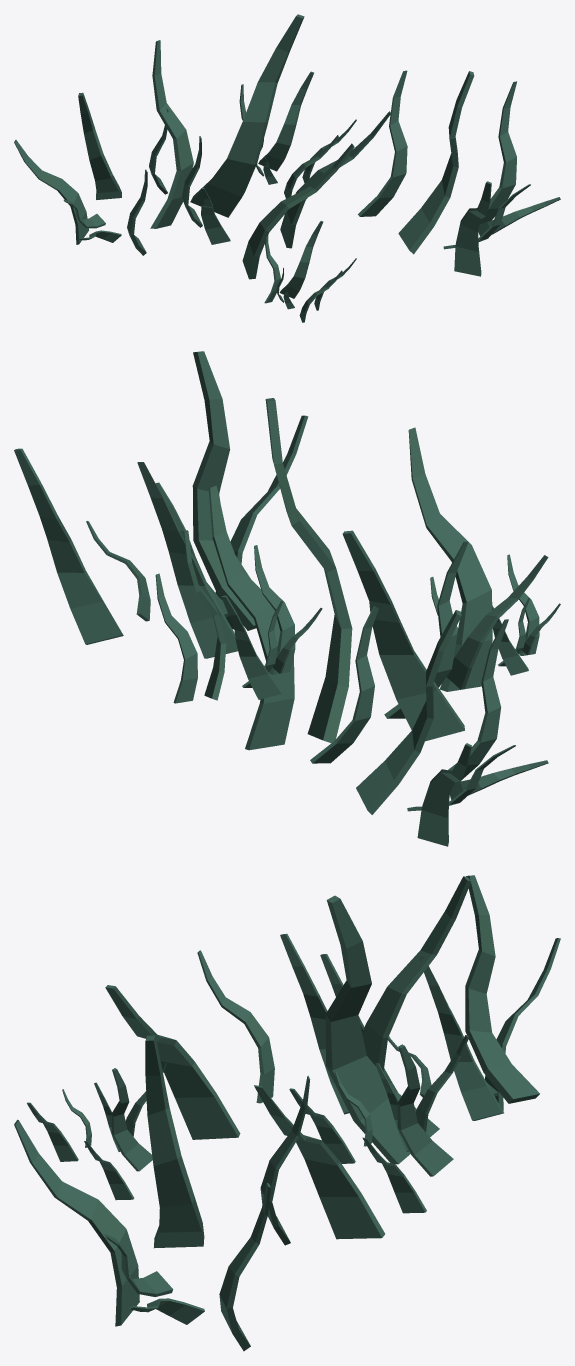
File: Grass_2.fbx
3 renders of one model, top to bottom at view 1: azimuth 30°, elevation 25°; view 2: azimuth 150°, elevation 25°; view 3: azimuth 270°, elevation 25°, orthographic. The views are drawn at different scales.
Visible parts, largest first — view 1: Plane.004, Plane.005, Plane.001, Plane.002, Plane.003; view 2: Plane.004, Plane.005, Plane.001, Plane.002, Plane.003; view 3: Plane.004, Plane.005, Plane.001, Plane.002, Plane.003.
Part boxes in pixels (bbox=[...]): Plane.004: bbox=[150, 14, 390, 279]; Plane.005: bbox=[358, 70, 560, 276]; Plane.001: bbox=[14, 92, 168, 255]; Plane.002: bbox=[239, 71, 356, 198]; Plane.003: bbox=[264, 221, 356, 322]; Plane.004: bbox=[208, 398, 548, 750]; Plane.005: bbox=[14, 351, 308, 658]; Plane.001: bbox=[310, 606, 548, 846]; Plane.002: bbox=[155, 530, 322, 703]; Plane.003: bbox=[430, 554, 560, 675]; Plane.004: bbox=[105, 876, 471, 1239]; Plane.005: bbox=[14, 1035, 310, 1351]; Plane.001: bbox=[320, 875, 560, 1120]; Plane.002: bbox=[289, 1035, 469, 1213]; Plane.003: bbox=[27, 1062, 166, 1200].
Bounding box in the file's own units: 3560 × 1956 × 2773.
